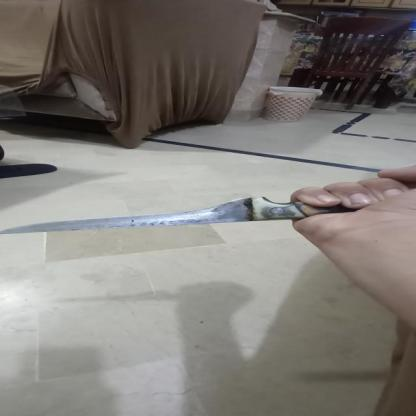Knife: (0, 176, 408, 248)
